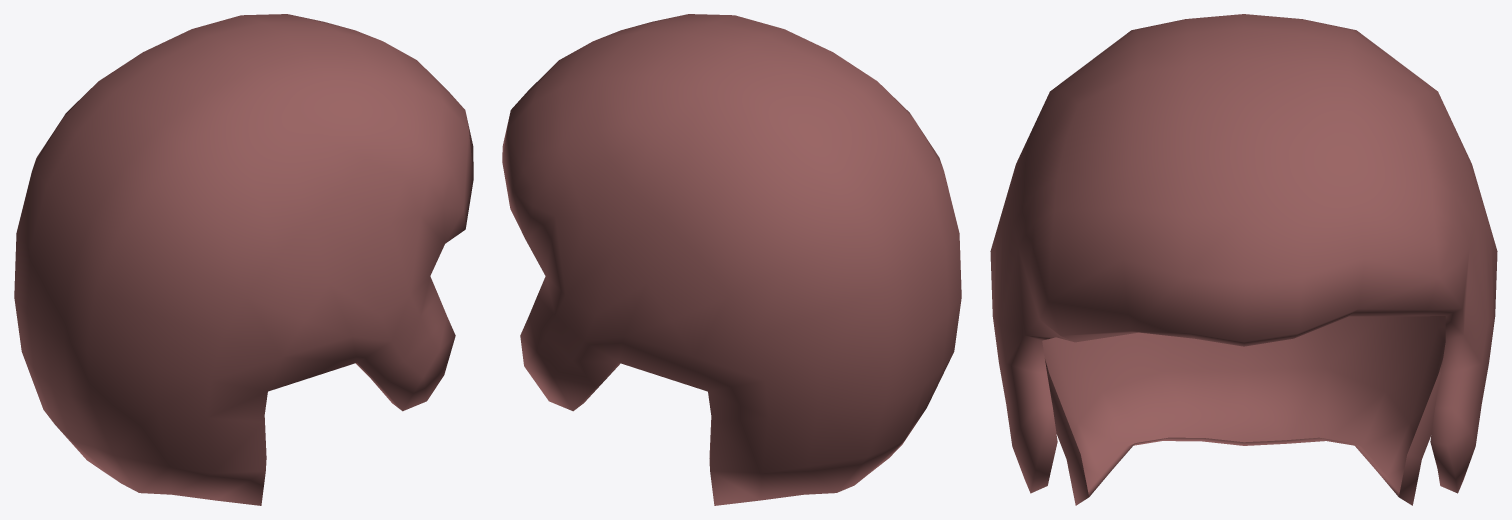
Rendered from hair.dae.
3 renders of one model, left to right at view 1: azimuth 30°, elevation 25°; view 2: azimuth 150°, elevation 25°; view 3: azimuth 270°, elevation 25°, orthographic. The views are drawn at different scales.
Parts seen in each view (by area): view 1: Hair; view 2: Hair; view 3: Hair.
Part boxes in pixels (x1=…): Hair: x1=14, y1=14, x2=473, y2=505; Hair: x1=502, y1=14, x2=961, y2=505; Hair: x1=990, y1=14, x2=1497, y2=505.
Bounding box in the file's own units: 0.2056 × 0.1745 × 0.1901.
